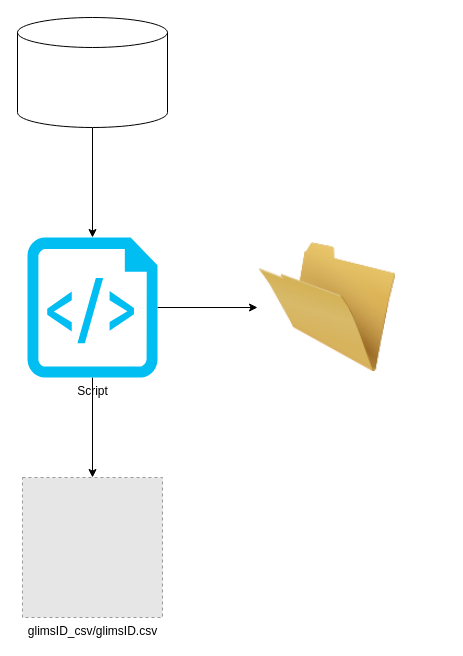
The diagram is 463 pixels wide and 656 high, and some of its shapes have lost their labels. Grey dashed boxes stand in for pictures. The shapes that lost their labels are listed below. From the top down, each one's centre as x and y in pixels, then its label:
the point at 92,72: Google Earth Engine
the point at 327,307: glimsID/glimsID_YYYYMMDD_L#_T1TOA.tif
